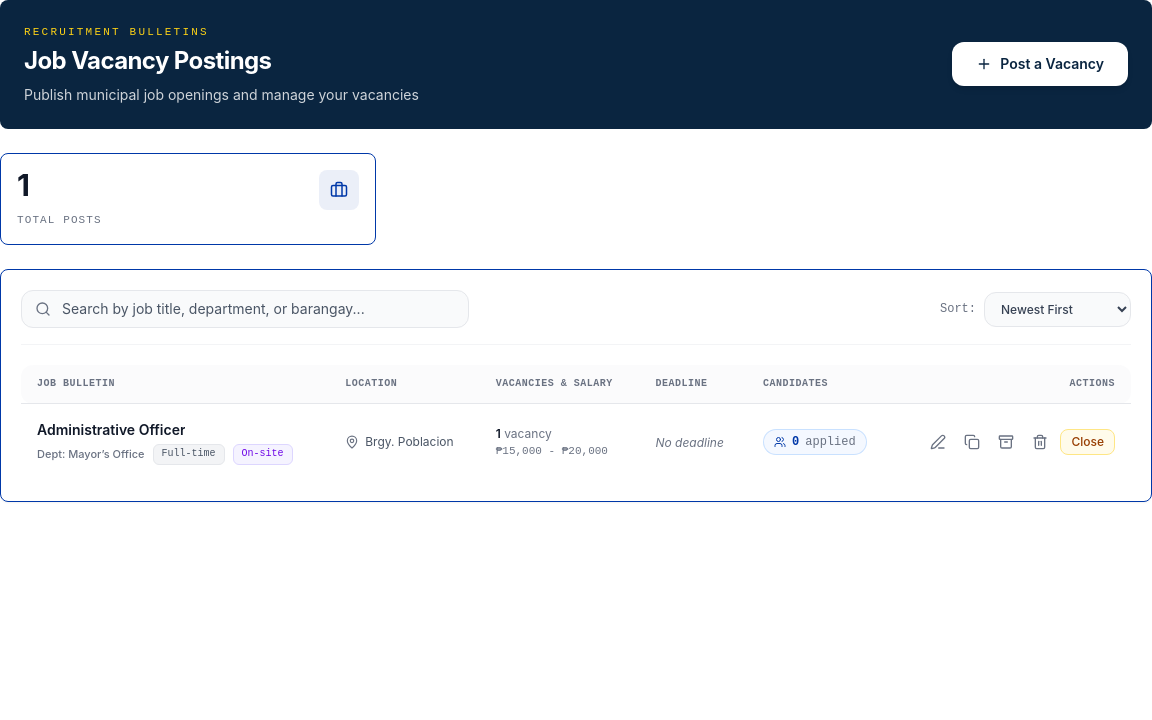
Test: JobPosts work experience select › opens a job with a non-preset experience on Custom… with the value filled in
Click the button titled "Edit Job" at (938, 442), box [924,428,952,456]
(page scrolled)
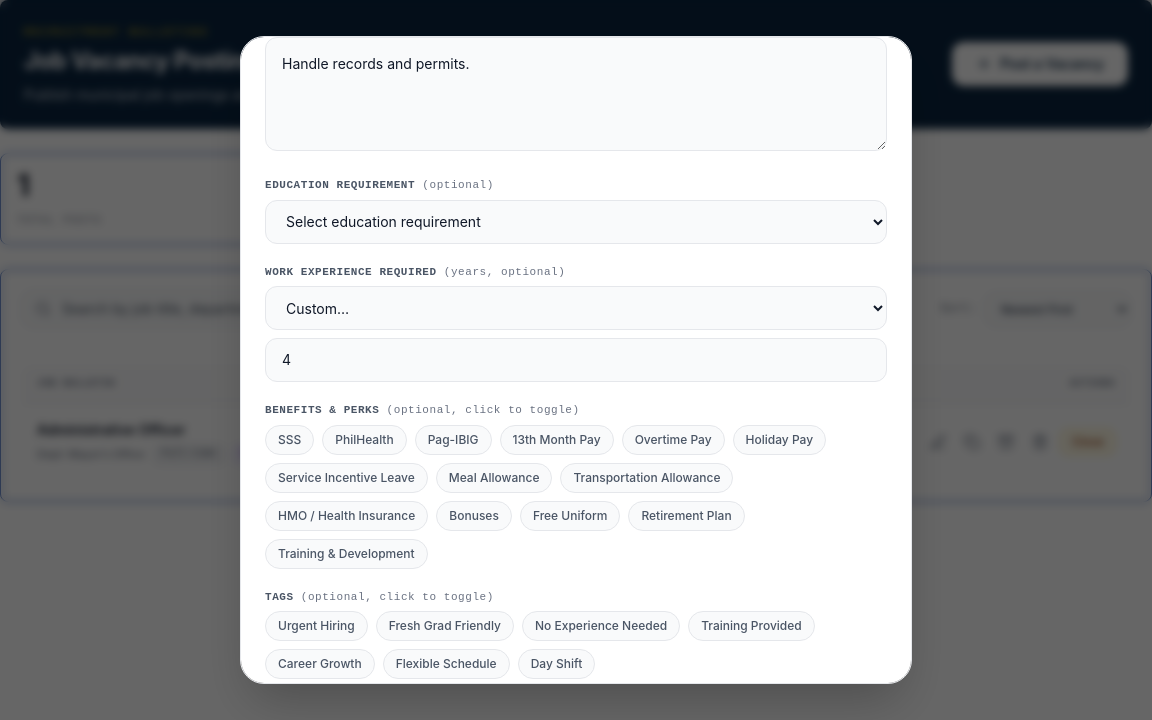
Expected: the dropdown labelled "Work Experience Required (years, optional)" shows "Custom…", [265,286,887,330]
Expected: the number field named "number of years of experience required" holds "4", [265,338,887,382]
